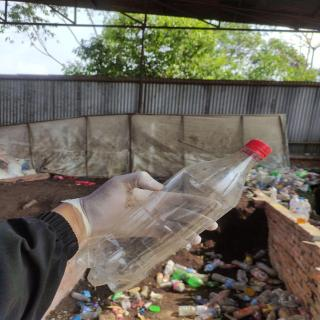Plastic-bottle: (73, 136, 280, 299)
